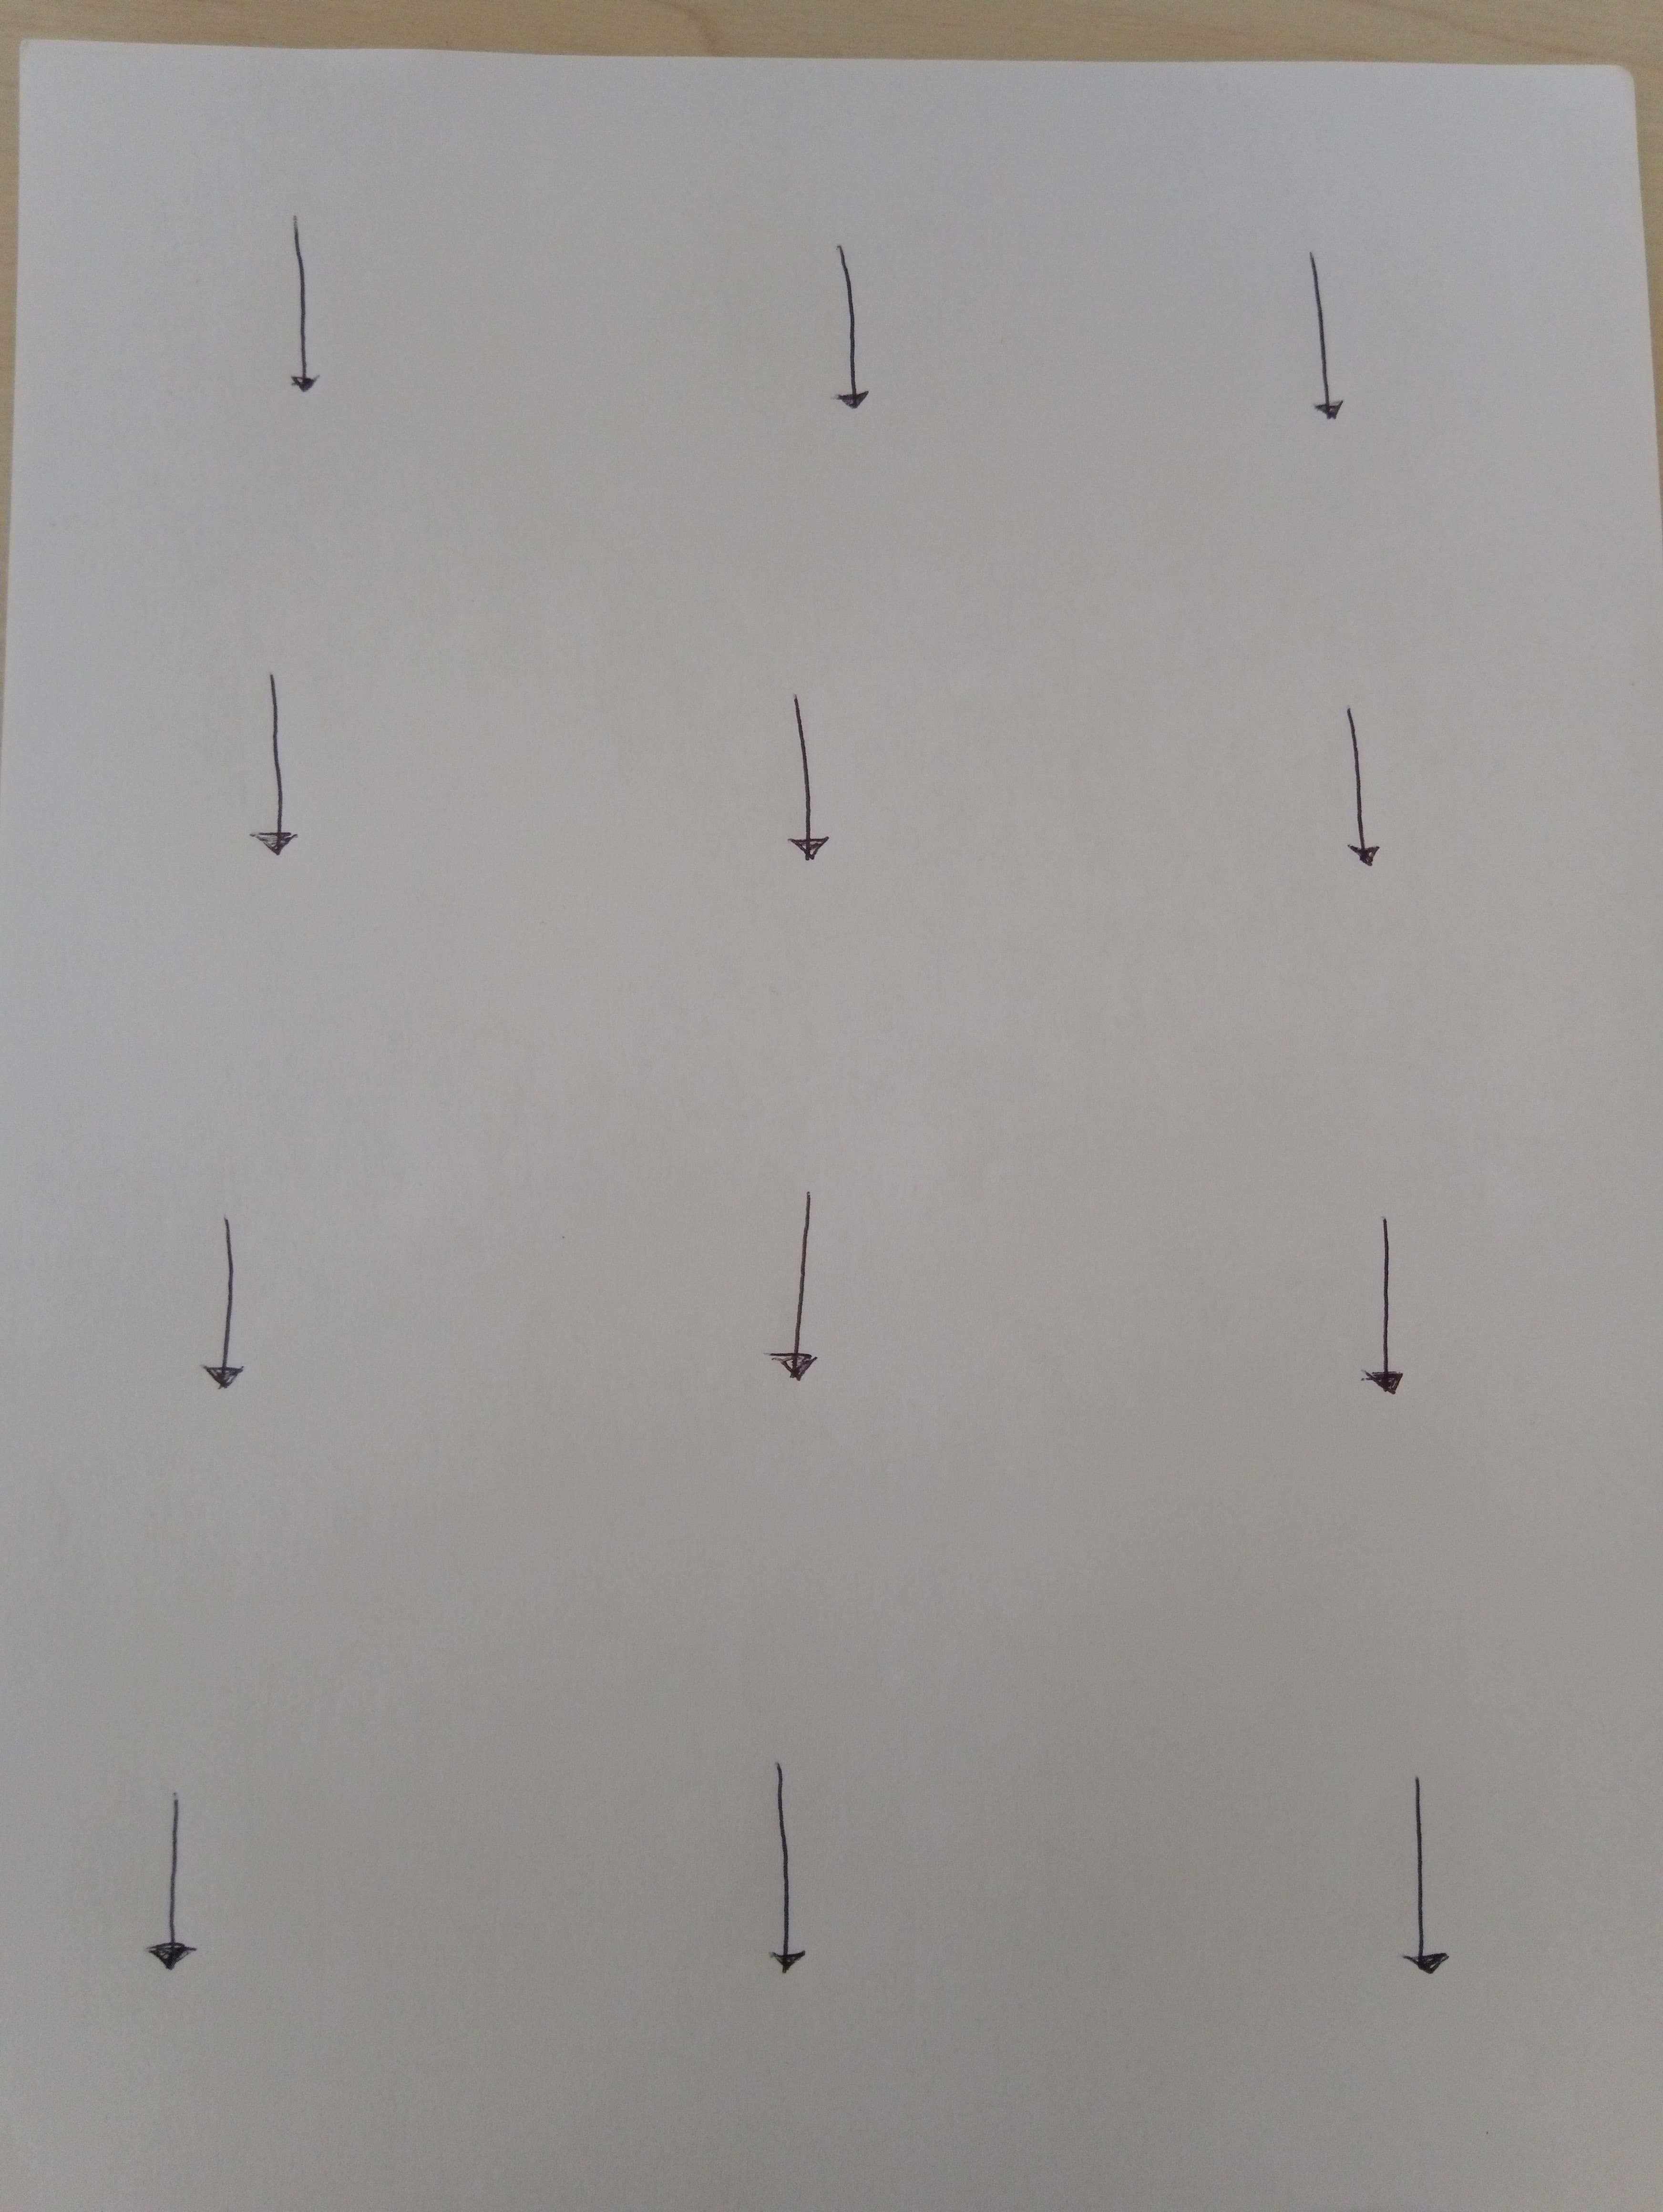arrow_line_down: (741, 1755, 844, 2008), (1333, 1198, 1441, 1411), (1373, 1774, 1471, 1982), (760, 684, 856, 878), (749, 1198, 847, 1384), (1270, 236, 1357, 435), (176, 1231, 269, 1407), (804, 236, 891, 421), (260, 211, 339, 409), (246, 658, 309, 885), (136, 1798, 203, 2004), (1314, 711, 1390, 885)
